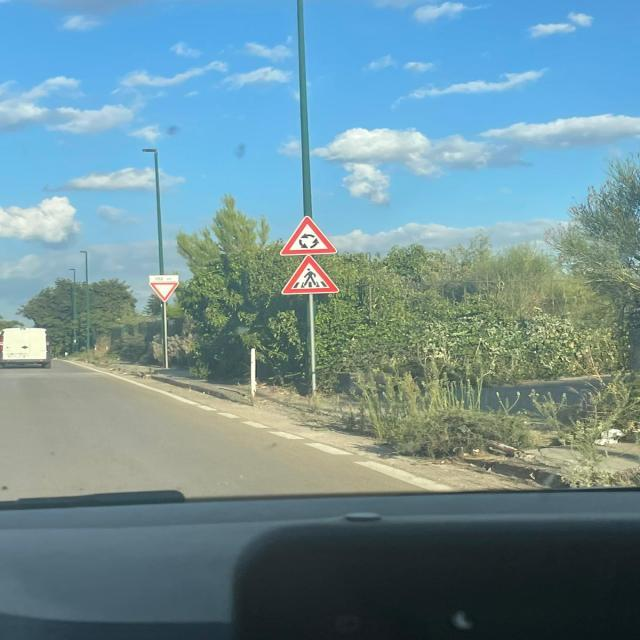prio_give_way: (150, 282, 180, 302)
warn_crosswalk: (280, 254, 341, 296)
